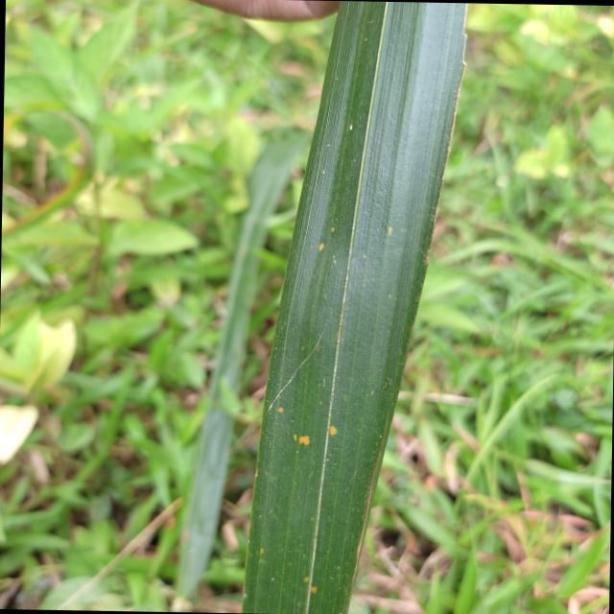Boron: (242, 0, 474, 614)
